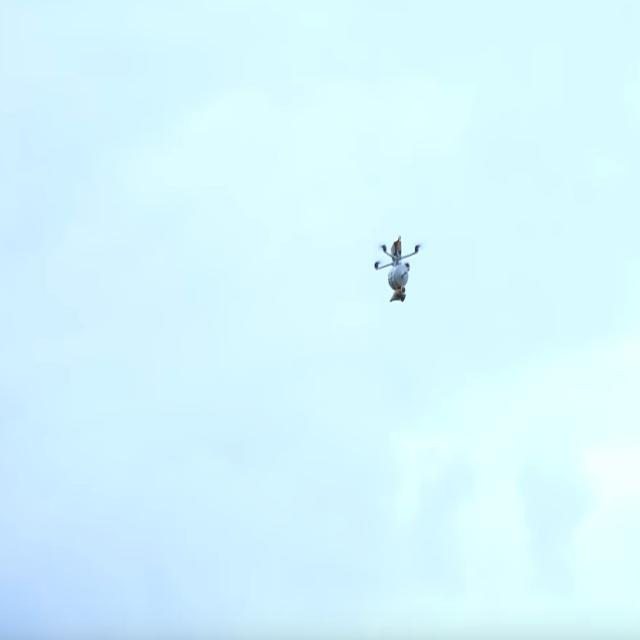drone: (368, 236, 430, 304)
